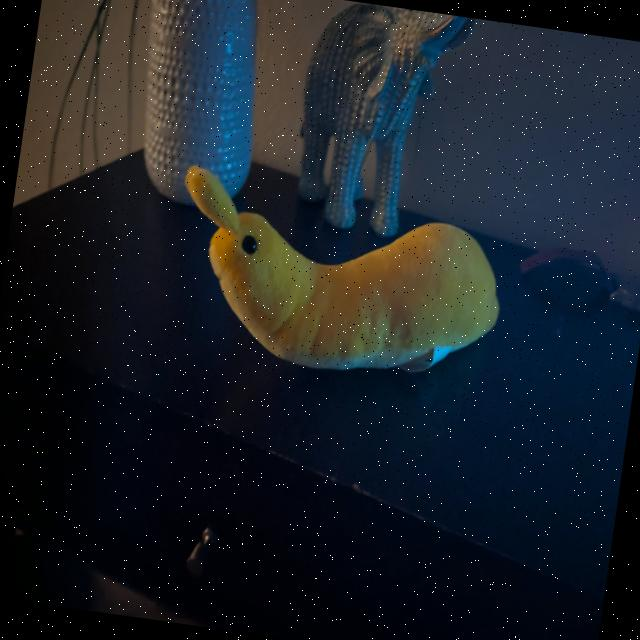banana-slug-toy: (138, 141, 538, 416)
